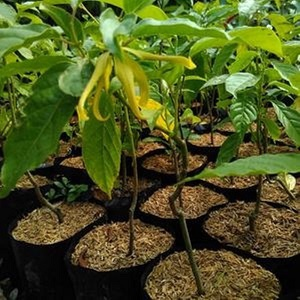ylang-ylang: (82, 36, 175, 112)
